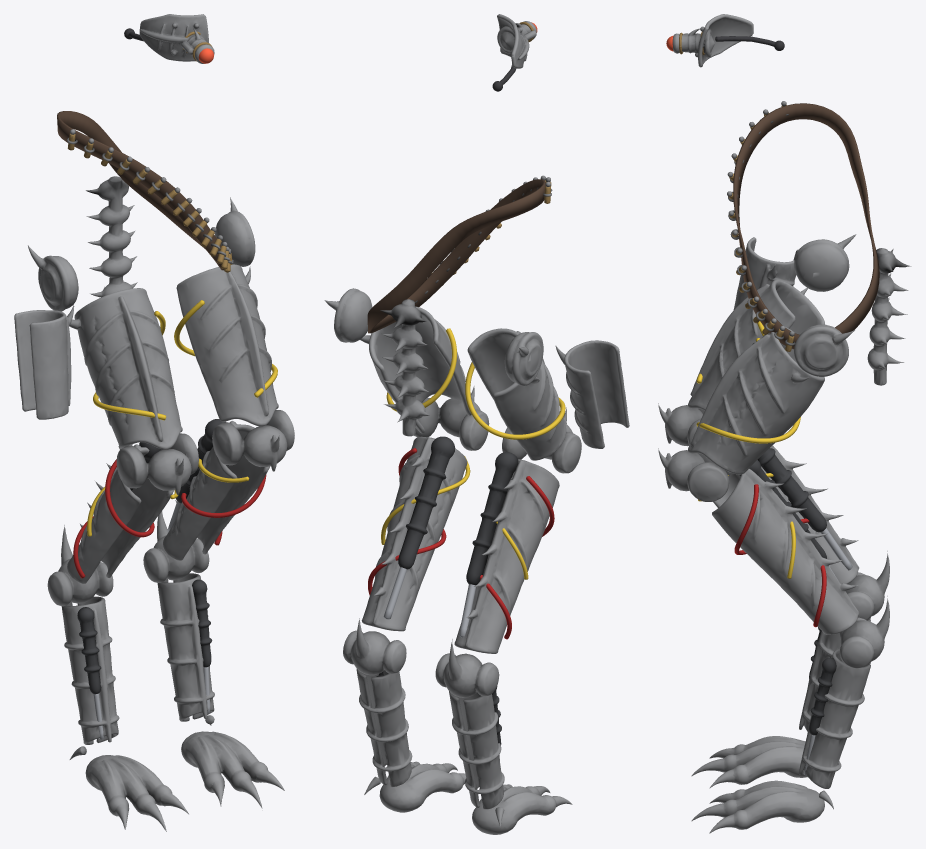
The model's file is deadeye-parts.glb.
The picture shows the model from 3 angles, left to right: view 1: azimuth 30°, elevation 25°; view 2: azimuth 150°, elevation 25°; view 3: azimuth 270°, elevation 25°; orthographic projection. The views are drawn at different scales.
Visible parts, largest first — view 1: thigh.r|femur, thigh.l|femur, pelvis|hips, foreArm.r|bracer, shin.l|tibia, shin.r|tibia, foot.l|cannon, foot.r|cannon, foot.r|toes, foot.l|toes, spine|bandolier, shin.r|knee (+13 smaller); view 2: shin.r|tibia, shin.l|tibia, pelvis|hips, thigh.r|femur, spine|bandolier, foreArm.r|bracer, thigh.l|femur, foot.r|cannon, foot.l|cannon, foot.l|toes, foot.r|toes, shin.l|piston (+9 smaller); view 3: thigh.l|femur, shin.l|tibia, pelvis|hips, spine|bandolier, thigh.r|femur, foot.l|cannon, foot.l|toes, foot.r|toes, shin.l|knee, skull|mask, foot.l|hock, shin.r|tibia (+11 smaller).
Part boxes in pixels (x1=…): thigh.r|femur: x1=69, y1=288, x2=182, y2=449; thigh.l|femur: x1=176, y1=264, x2=278, y2=426; pelvis|hips: x1=28, y1=176, x2=255, y2=311; foreArm.r|bracer: x1=14, y1=305, x2=74, y2=419; shin.l|tibia: x1=163, y1=421, x2=269, y2=560; shin.r|tibia: x1=67, y1=444, x2=174, y2=583; foot.l|cannon: x1=157, y1=573, x2=214, y2=721; foot.r|cannon: x1=61, y1=596, x2=119, y2=744; foot.r|toes: x1=69, y1=746, x2=188, y2=831; foot.l|toes: x1=181, y1=715, x2=284, y2=808; spine|bandolier: x1=57, y1=111, x2=223, y2=270; shin.r|knee: x1=116, y1=433, x2=198, y2=494; shin.r|tibia: x1=454, y1=459, x2=559, y2=653; shin.l|tibia: x1=361, y1=436, x2=467, y2=631; pelvis|hips: x1=324, y1=288, x2=543, y2=436; thigh.r|femur: x1=467, y1=328, x2=566, y2=460; spine|bandolier: x1=367, y1=179, x2=545, y2=333; foreArm.r|bracer: x1=555, y1=340, x2=629, y2=448; thigh.l|femur: x1=360, y1=306, x2=473, y2=433; foot.r|cannon: x1=449, y1=691, x2=504, y2=809; foot.l|cannon: x1=356, y1=668, x2=412, y2=787; foot.l|toes: x1=364, y1=761, x2=466, y2=812; foot.r|toes: x1=472, y1=784, x2=572, y2=834; shin.l|piston: x1=398, y1=436, x2=455, y2=569; thigh.l|femur: x1=688, y1=327, x2=824, y2=474; shin.l|tibia: x1=712, y1=468, x2=859, y2=634; pelvis|hips: x1=794, y1=234, x2=911, y2=385; spine|bandolier: x1=733, y1=103, x2=879, y2=349; thigh.r|femur: x1=688, y1=279, x2=824, y2=410; foot.l|cannon: x1=799, y1=649, x2=870, y2=788; foot.l|toes: x1=691, y1=780, x2=833, y2=833; foot.r|toes: x1=691, y1=736, x2=807, y2=788; shin.l|knee: x1=658, y1=448, x2=729, y2=501; skull|mask: x1=672, y1=14, x2=753, y2=67; foot.l|hock: x1=839, y1=596, x2=889, y2=668; shin.r|tibia: x1=725, y1=445, x2=859, y2=583.
Size of the model in its own units: 0.5861 by 1.76 by 0.5236.
